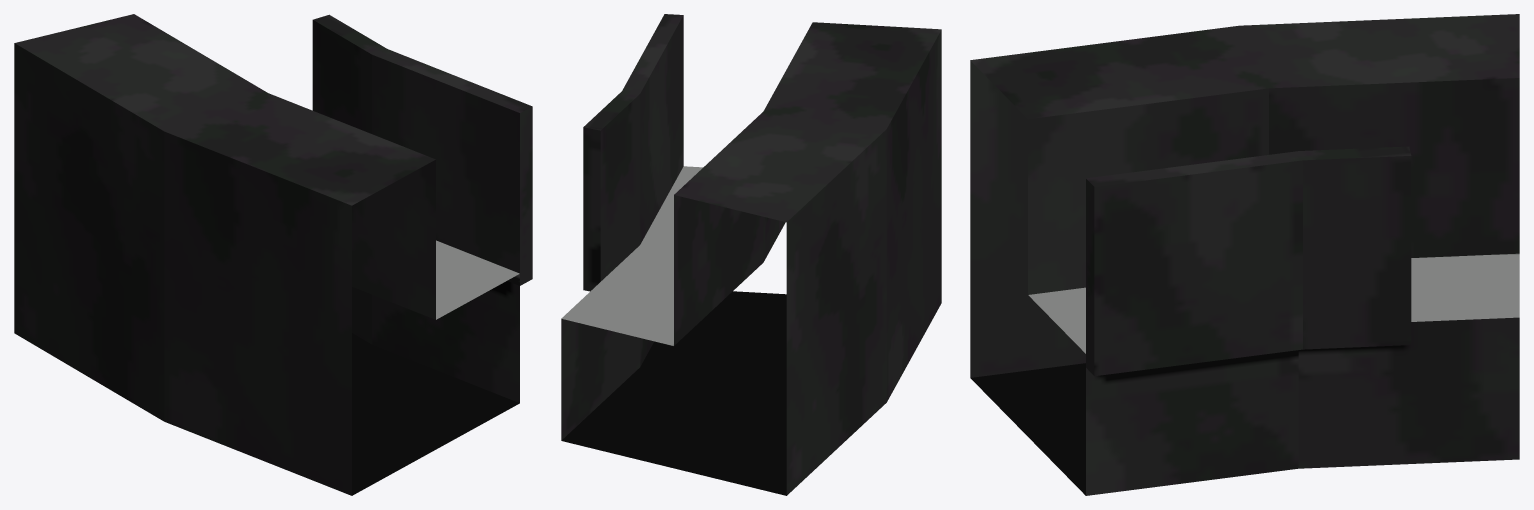
The model's file is top_09.obj.
3 renders of one model, left to right at view 1: azimuth 30°, elevation 25°; view 2: azimuth 150°, elevation 25°; view 3: azimuth 270°, elevation 25°, orthographic. The views are drawn at different scales.
Parts seen in each view (by area): view 1: Cylinder.002_Cylinder.001; view 2: Cylinder.002_Cylinder.001; view 3: Cylinder.002_Cylinder.001.
Boxes of the visible parts, box(x1,y1,x2,y2) form: Cylinder.002_Cylinder.001: box(14, 14, 532, 495); Cylinder.002_Cylinder.001: box(561, 14, 941, 495); Cylinder.002_Cylinder.001: box(970, 14, 1519, 495).
Size of the model in its own units: 10.98 by 9.41 by 14.74.
